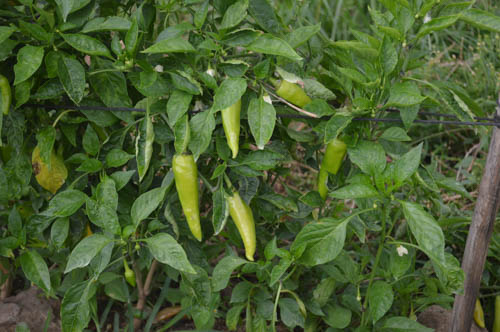ChiliPepper: (171, 156, 203, 241), (228, 194, 255, 258), (318, 142, 343, 202), (218, 104, 244, 156), (275, 80, 316, 109)
